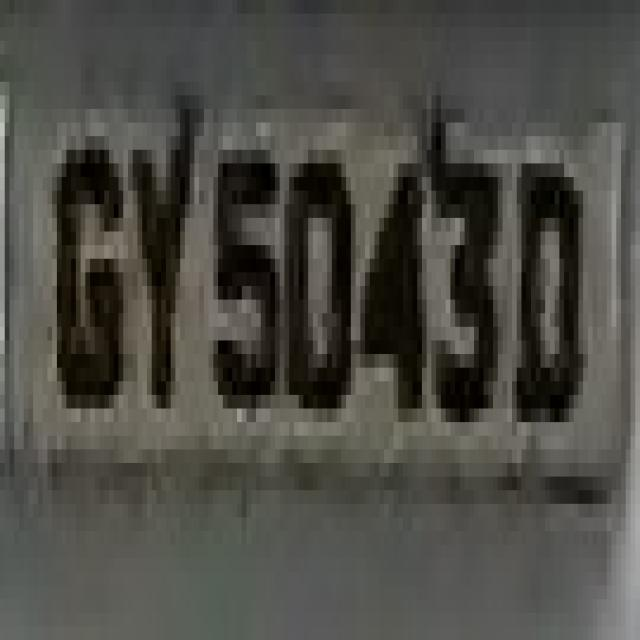0: (280, 136, 360, 450)
3: (422, 109, 502, 449)
4: (351, 96, 431, 450)
5: (194, 109, 275, 436)
D: (502, 122, 578, 450)
G: (52, 96, 128, 450)
Y: (119, 109, 199, 422)
